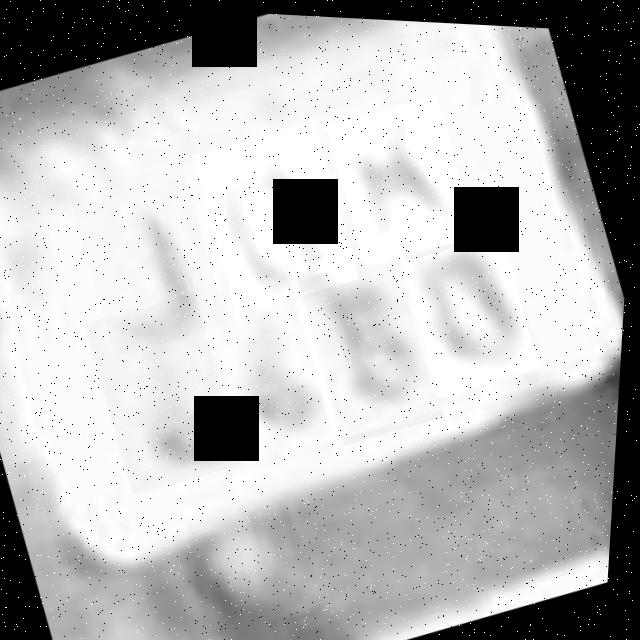0: (394, 224, 550, 397)
4: (81, 285, 255, 499)
6: (294, 242, 457, 445)
B: (282, 230, 454, 440)
J: (65, 157, 238, 359)
N: (320, 85, 485, 268)
O: (186, 111, 369, 315)
